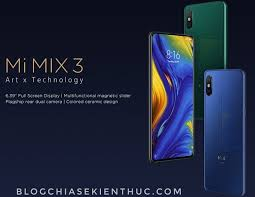mi: (201, 66, 248, 195)
